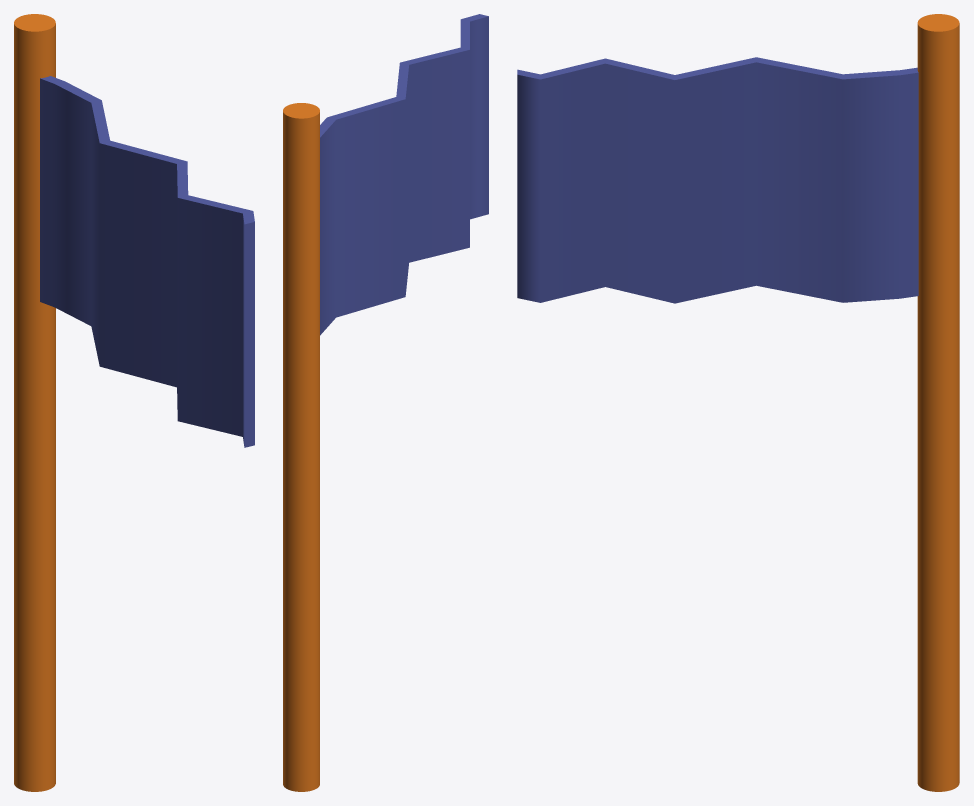
The model's file is flag.obj.
3 views of the same model, side by side, from view 1: azimuth 30°, elevation 25°; view 2: azimuth 150°, elevation 25°; view 3: azimuth 270°, elevation 25° (orthographic). The views are drawn at different scales.
Visible parts, largest first — view 1: Spline Object, Cylinder; view 2: Spline Object, Cylinder; view 3: Spline Object, Cylinder.
Boxes of the visible parts, x1,y1,x2,y2 form: Spline Object: (40,76,254,447); Cylinder: (14,14,55,791); Spline Object: (320,14,488,335); Cylinder: (283,103,319,791); Spline Object: (517,57,918,303); Cylinder: (917,14,959,791).
Size of the model in its own units: 0.5191 by 8 by 4.22.
